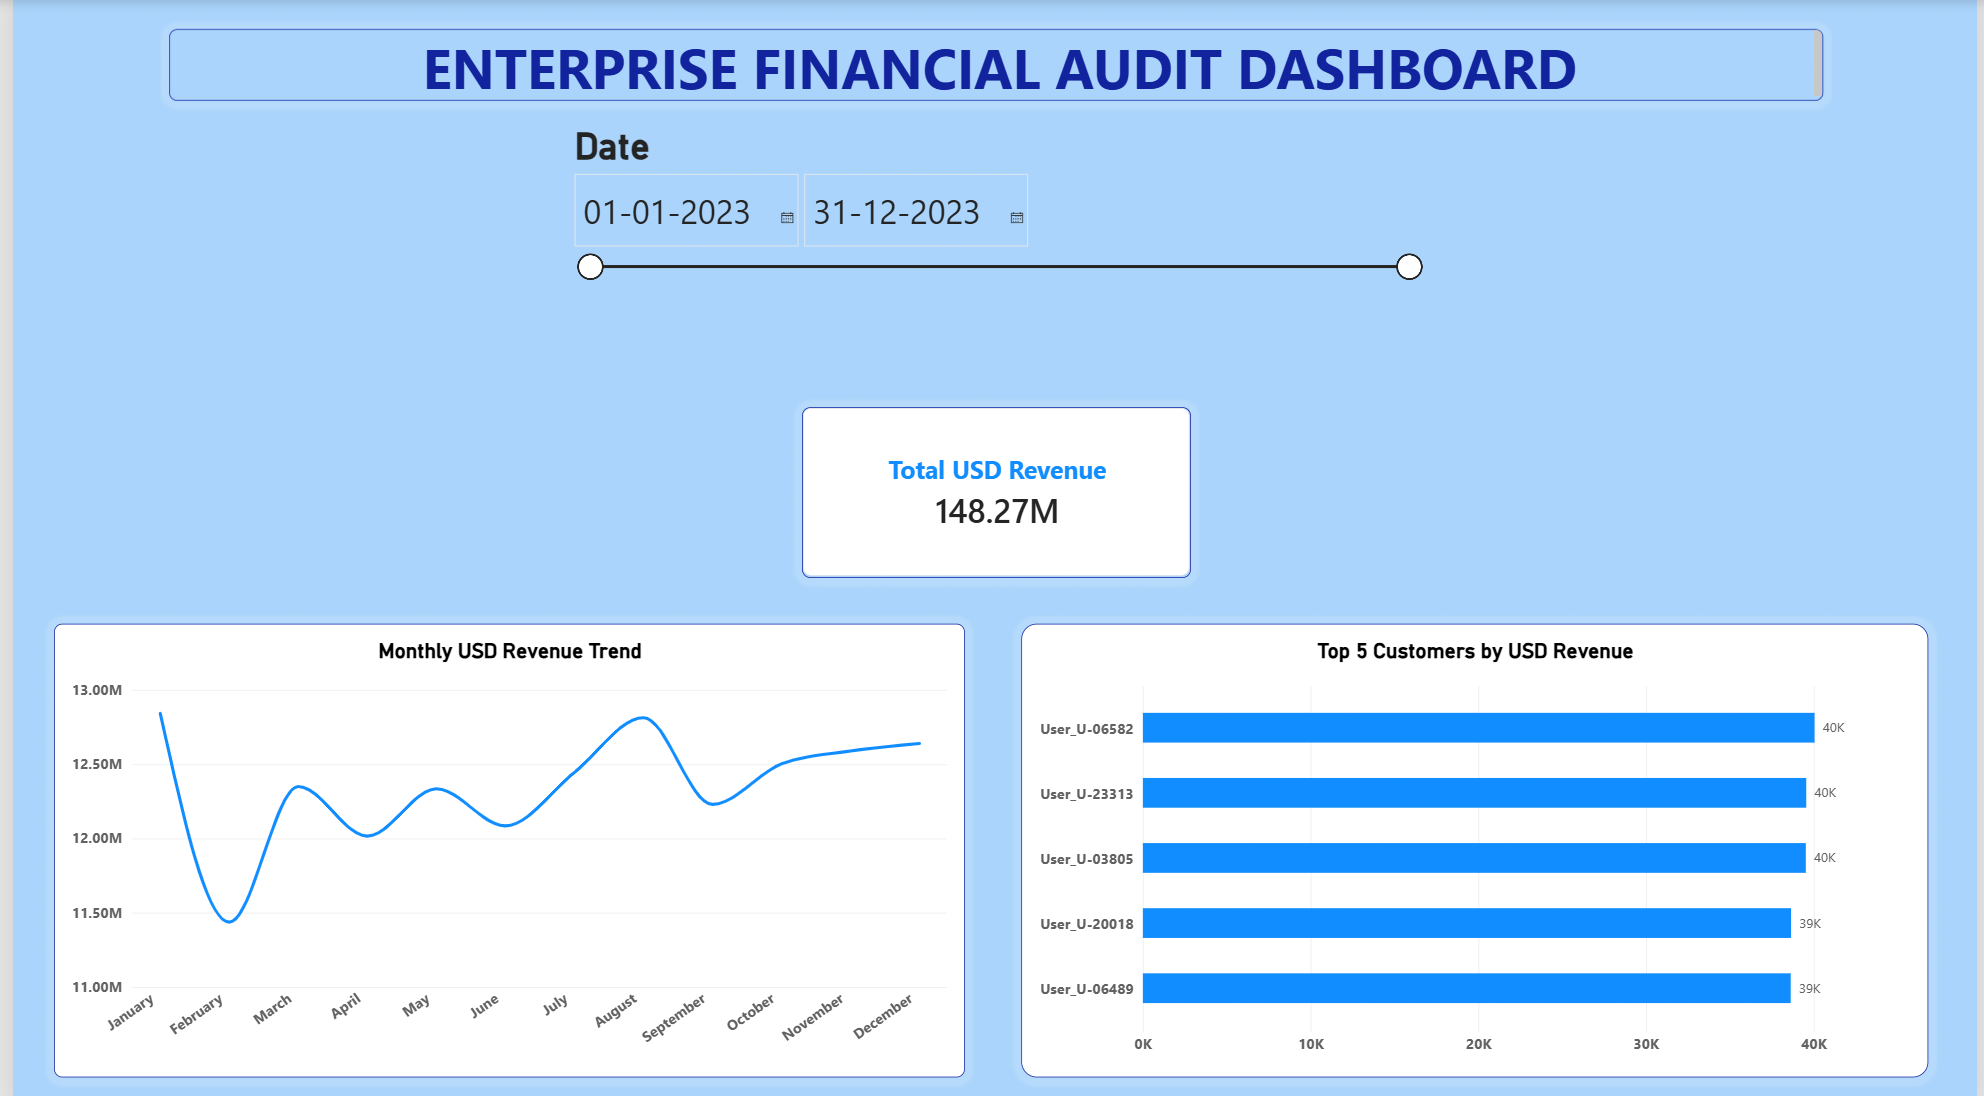

The page's visual inventory and layout, read from the dashboard file:
{"tool":"powerbi","page":{"name":"Page 1","canvas":[1920,1080],"ordinal":0},"visuals":[{"type":"lineChart","title":"Monthly USD Revenue Trend","fields":{"Y":["power_bi_ready_dataset.Total USD Revenue"],"Category":["power_bi_ready_dataset.Date.Variation.Date Hierarchy.Month"]},"box":[40,610,890,443.3],"z":0},{"type":"clusteredBarChart","title":"Top 5 Customers by USD Revenue","fields":{"Category":["power_bi_ready_dataset.name"],"Y":["Sum(power_bi_ready_dataset.USD_Revenue)"]},"box":[986.7,610,886.7,443.3],"z":1000},{"type":"slicer","fields":{"Values":["power_bi_ready_dataset.Date"]},"box":[540,123.3,840,243.3],"z":2000},{"type":"textbox","box":[151.7,30,1616.7,70],"z":3000},{"type":"cardVisual","fields":{"Data":["power_bi_ready_dataset.Total USD Revenue"]},"box":[770,400,380,166.7],"z":4000}]}

Visuals, with their boxes in screenshot pixels (x1, y1, x2, y2), scaled from the page's 1920x1080 canvas onto the 1984x1096 screenshot:
"Monthly USD Revenue Trend" lineChart: [left=41, top=619, right=961, bottom=1069]
"Top 5 Customers by USD Revenue" clusteredBarChart: [left=1020, top=619, right=1936, bottom=1069]
slicer - power_bi_ready_dataset.Date: [left=558, top=125, right=1426, bottom=372]
textbox: [left=157, top=30, right=1827, bottom=101]
cardVisual - power_bi_ready_dataset.Total USD Revenue: [left=796, top=406, right=1188, bottom=575]
